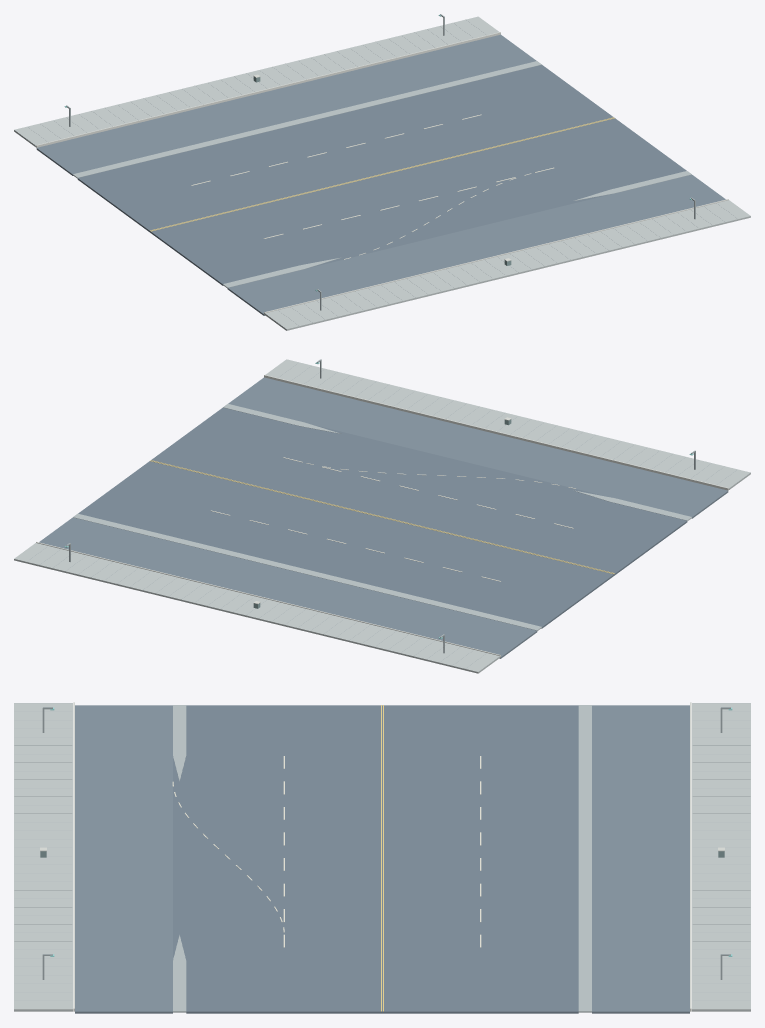
Rendered from city-w98-s59.glb.
3 views of the same model, one above another, from view 1: azimuth 30°, elevation 25°; view 2: azimuth 150°, elevation 25°; view 3: azimuth 270°, elevation 25° (orthographic). The views are drawn at different scales.
Parts seen in each view (by area): view 1: Main_road, Frontage_roads, Sidewalk, Medians, Curbs, Paving_joints, Merge_surface, Center_lines; view 2: Main_road, Frontage_roads, Sidewalk, Medians, Curbs, Paving_joints, Merge_surface, Center_lines; view 3: Main_road, Frontage_roads, Sidewalk, Medians, Paving_joints, Merge_surface, Curbs, Center_lines.
Part boxes in pixels (x1,y1,x2,y2): Main_road: [77, 65, 686, 285]; Frontage_roads: [36, 34, 725, 315]; Sidewalk: [14, 16, 750, 330]; Medians: [73, 61, 691, 288]; Curbs: [36, 32, 728, 314]; Paving_joints: [15, 20, 737, 328]; Merge_surface: [307, 191, 611, 268]; Center_lines: [150, 117, 614, 231]; Main_road: [78, 407, 687, 628]; Frontage_roads: [39, 377, 728, 658]; Sidewalk: [14, 359, 750, 673]; Medians: [73, 404, 691, 630]; Curbs: [36, 375, 728, 657]; Paving_joints: [27, 362, 750, 671]; Merge_surface: [302, 424, 607, 500]; Center_lines: [150, 460, 614, 574]; Main_road: [186, 705, 578, 1013]; Frontage_roads: [75, 705, 689, 1013]; Sidewalk: [14, 703, 750, 1011]; Medians: [173, 705, 591, 1012]; Paving_joints: [14, 703, 750, 1000]; Merge_surface: [173, 756, 186, 959]; Curbs: [73, 702, 691, 1011]; Center_lines: [381, 705, 383, 1011].
Bounding box in the file's own units: 72 × 3.26 × 73.2.
